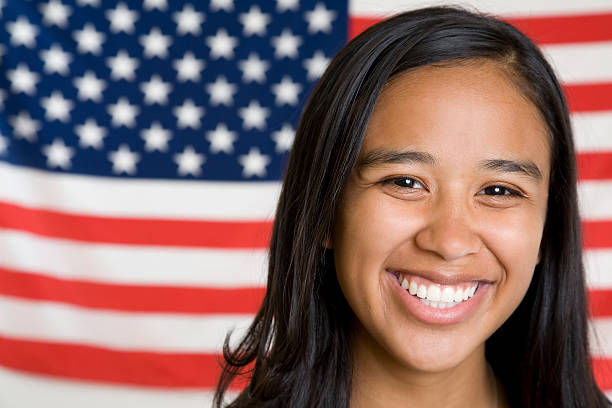face: (355, 82, 550, 374)
